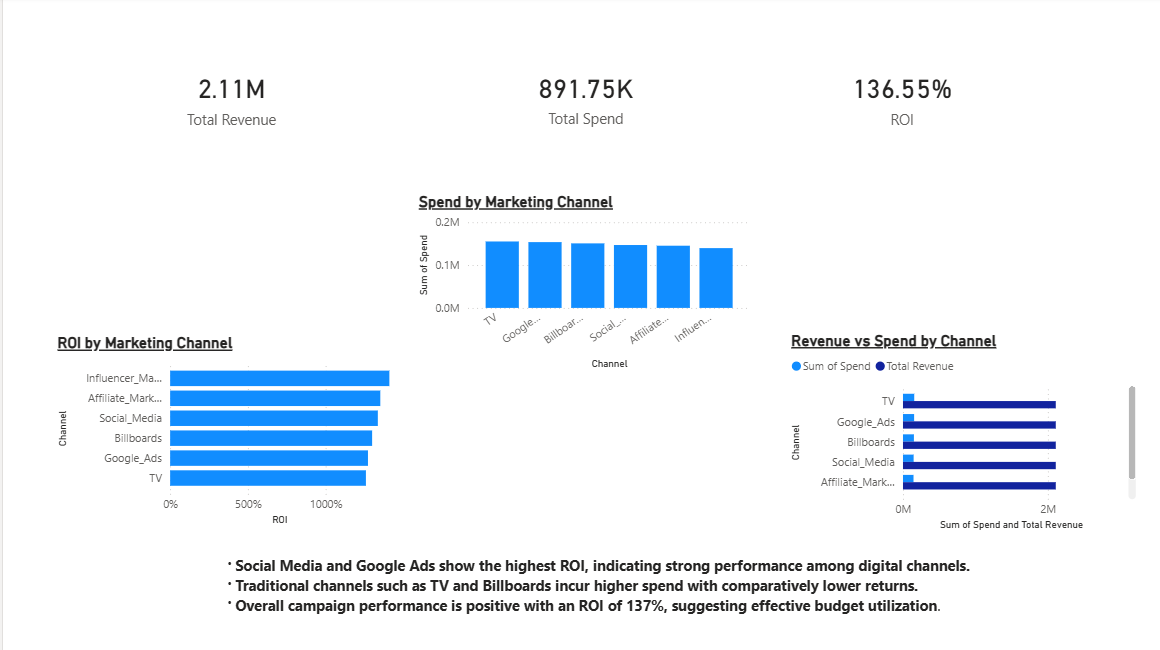

This screenshot's page, from the dashboard's own definition file:
{"tool":"powerbi","page":{"name":"Page 1","canvas":[1280,720],"ordinal":0},"visuals":[{"type":"card","fields":{"Values":["Advertising_Data.Total Revenue"]},"box":[155.1,70,192.1,82.3],"z":0},{"type":"card","fields":{"Values":["Advertising_Data.Total Spend"]},"box":[447.3,52.1,385.6,116.6],"z":4},{"type":"card","fields":{"Values":["Advertising_Data.ROI"]},"box":[784.9,35.7,404.8,150.9],"z":5},{"type":"clusteredColumnChart","title":"Spend by Marketing Channel","fields":{"Category":["Advertising_Data.Channel"],"Y":["Sum(Advertising_Data.Spend)"]},"box":[451.5,215.4,374.6,199],"z":7},{"type":"barChart","title":"ROI by Marketing Channel","fields":{"Category":["Advertising_Data.Channel"],"Y":["Advertising_Data.ROI"]},"box":[54.9,370.5,392.5,215.4],"z":8},{"type":"clusteredBarChart","title":"Revenue vs Spend by Channel","fields":{"Category":["Advertising_Data.Channel"],"Y":["Sum(Advertising_Data.Spend)","Advertising_Data.Total Revenue"]},"box":[860.4,367.8,388.3,223.7],"z":9},{"type":"textbox","box":[231.9,609.3,942.7,96.1],"z":10}]}

Visuals, with their boxes in screenshot pixels (x1, y1, x2, y2), scaled from the page's 1280x720 canvas onto the 1160x650 screenshot:
card - Advertising_Data.Total Revenue: 141/63/315/137
card - Advertising_Data.Total Spend: 405/47/755/152
card - Advertising_Data.ROI: 711/32/1078/168
"Spend by Marketing Channel" clusteredColumnChart: 409/194/749/374
"ROI by Marketing Channel" barChart: 50/334/405/529
"Revenue vs Spend by Channel" clusteredBarChart: 780/332/1132/534
textbox: 210/550/1064/637
